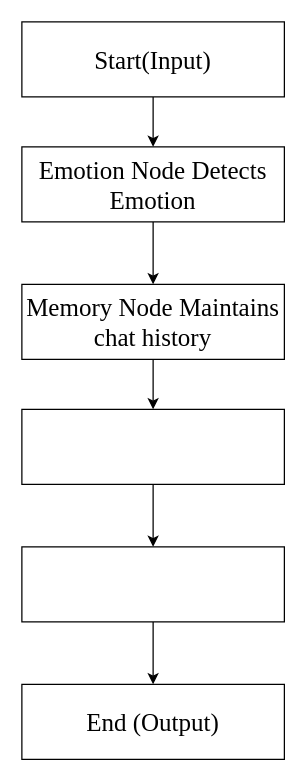
Some shapes in this 306 by 781 pixel diagram are drawn without their labels. The centre of each missing label's shape, as x and y in pixels:
"Action Node Generates final response" belongs at point (152, 584).
"PCI Node adds Personality/context" belongs at point (152, 446).
